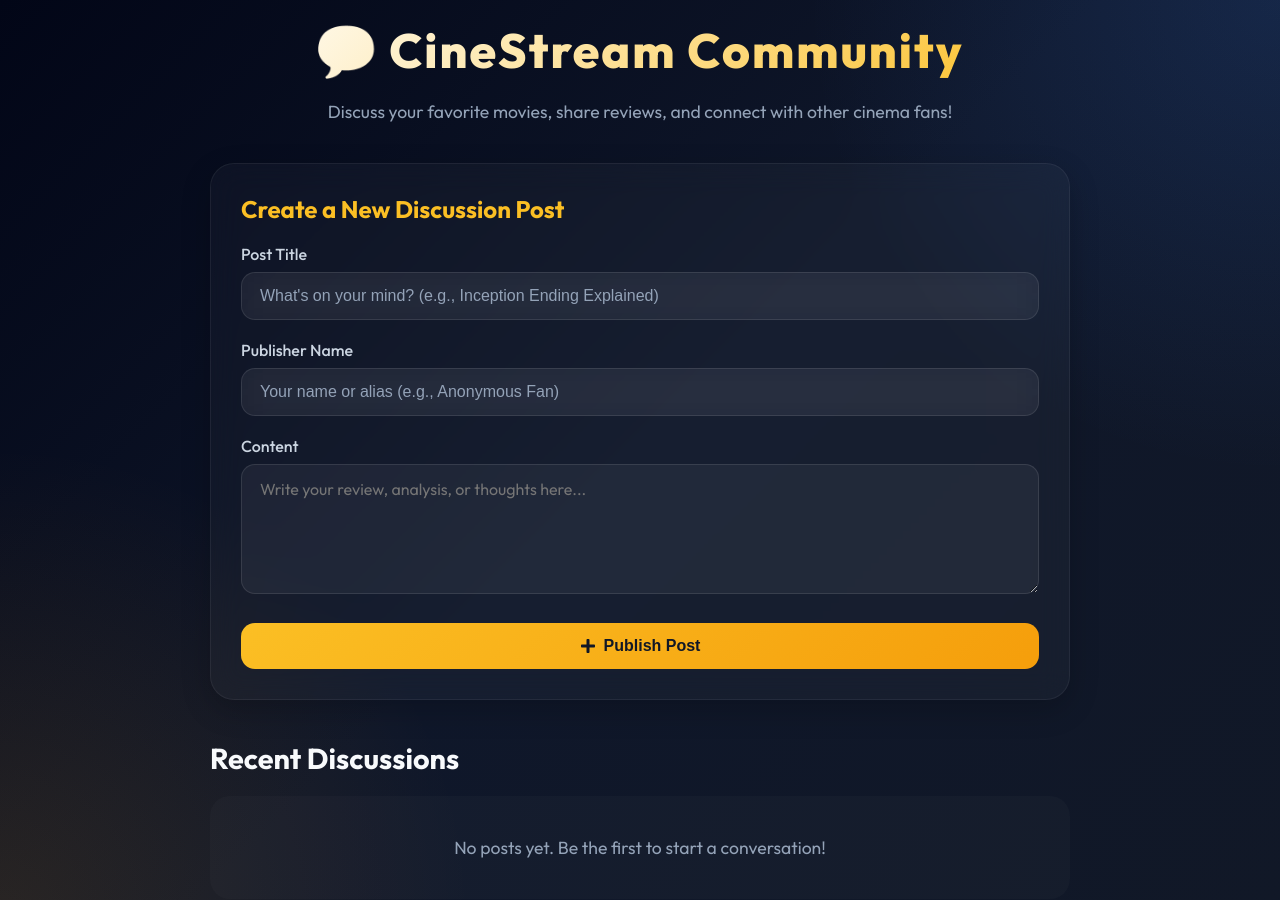
Test: Community Component Tests › creates a new post and appends it to the DOM
Type "Interstellar Analysis" into the field labelled "Post Title" at (640, 296), box 241,272 -> 1039,320
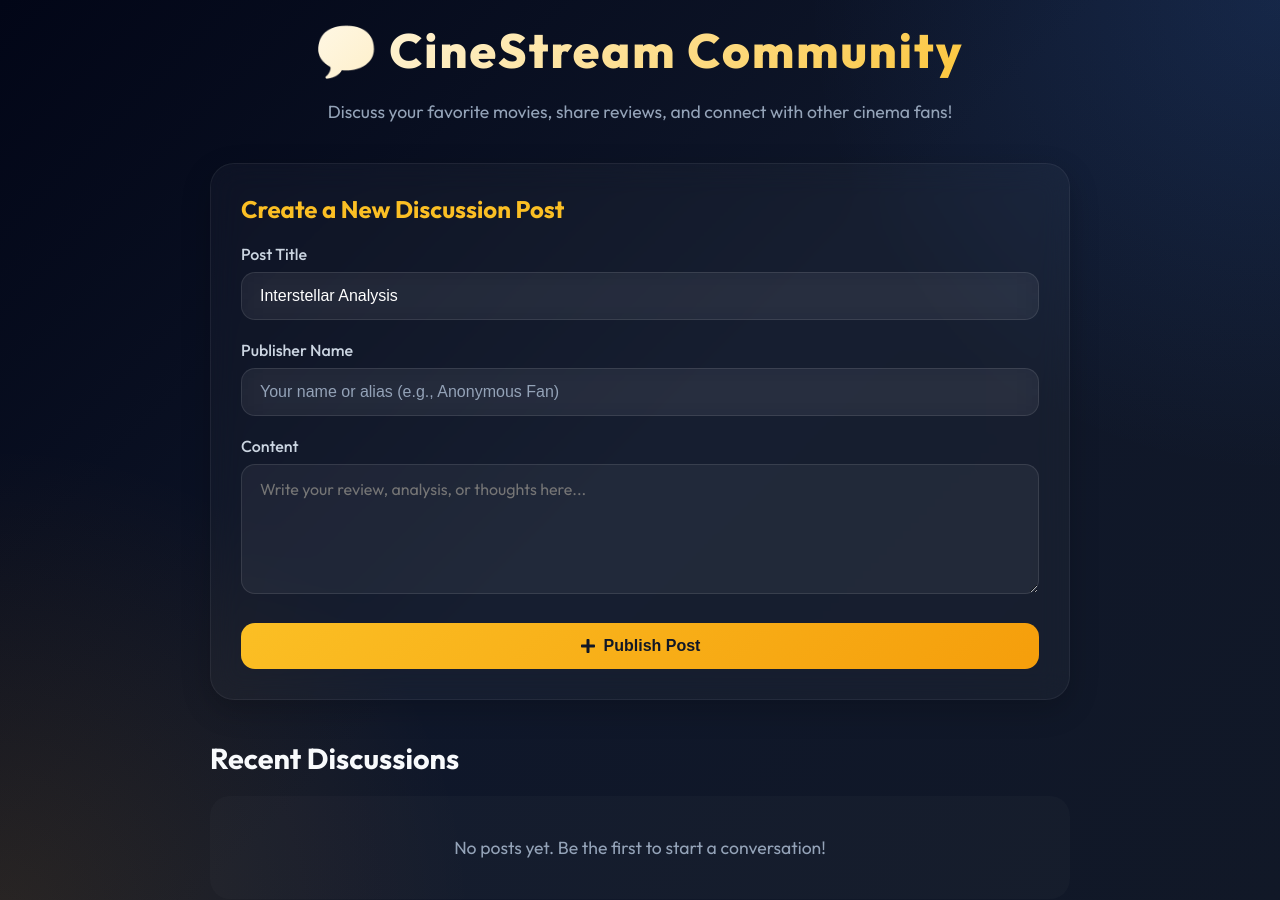
Type "Movie Geek" into the field labelled "Publisher Name" at (640, 392), box 241,368 -> 1039,416
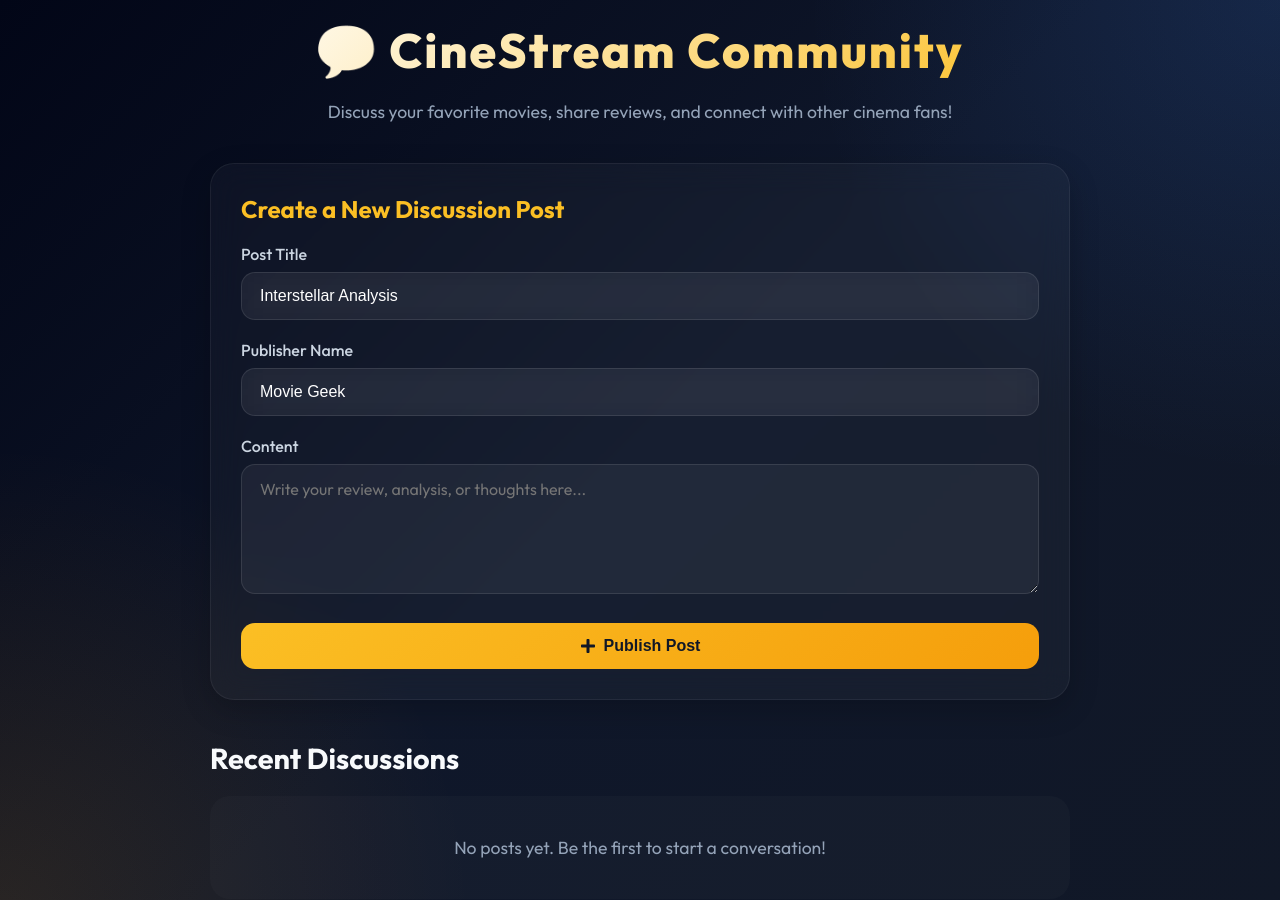
Type "Absolutely mindblowing soundtrack." into the text box labelled "Content" at (640, 529), box 241,464 -> 1039,594
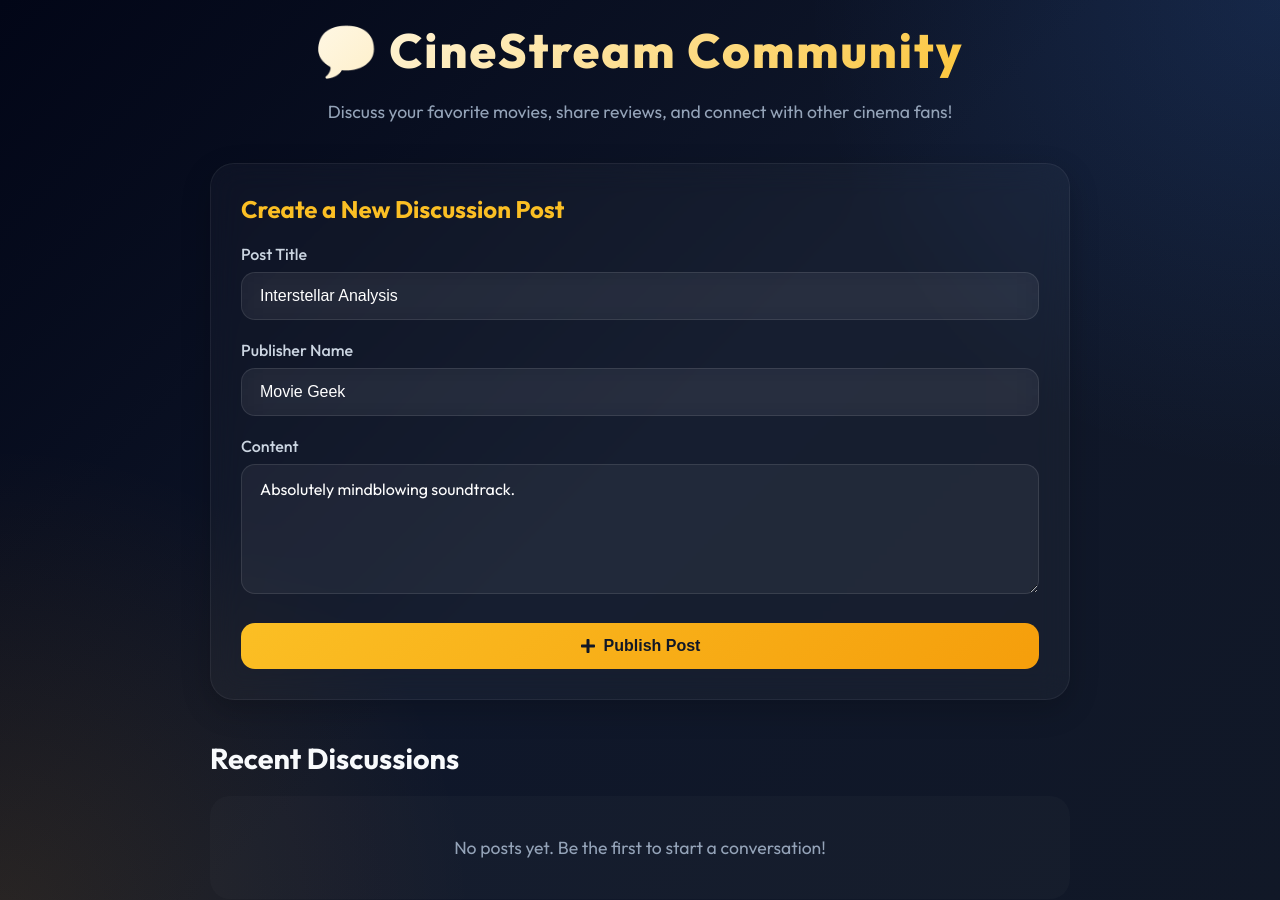
Click the button "Publish Post" at (640, 646), box 241,623 -> 1039,669
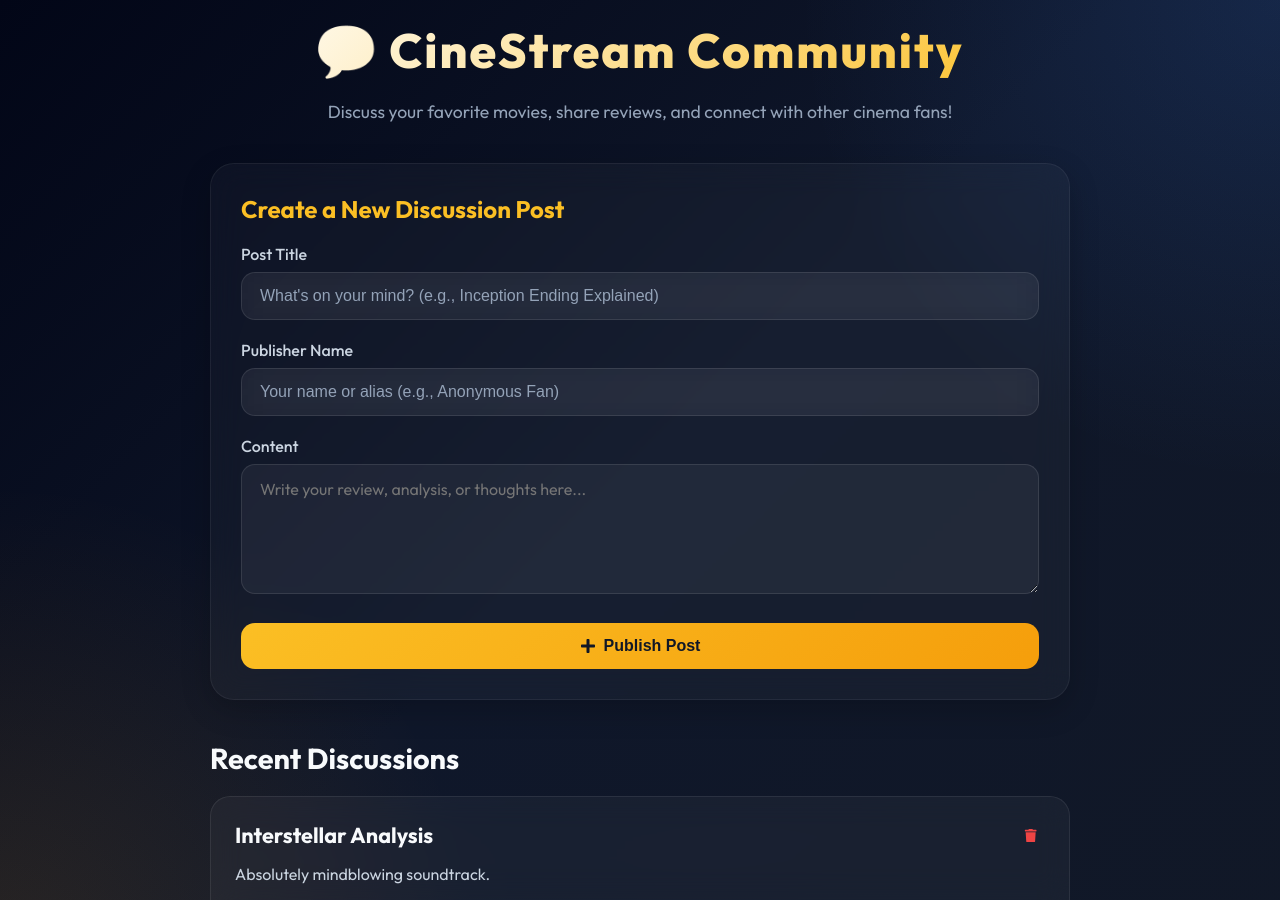
Check: the heading "Interstellar Analysis" is shown, box 235,821 -> 433,849
Check: the text "Absolutely mindblowing soundtrack." is shown, box 235,864 -> 490,884
Check: the field labelled "Post Title" is empty, box 241,272 -> 1039,320
